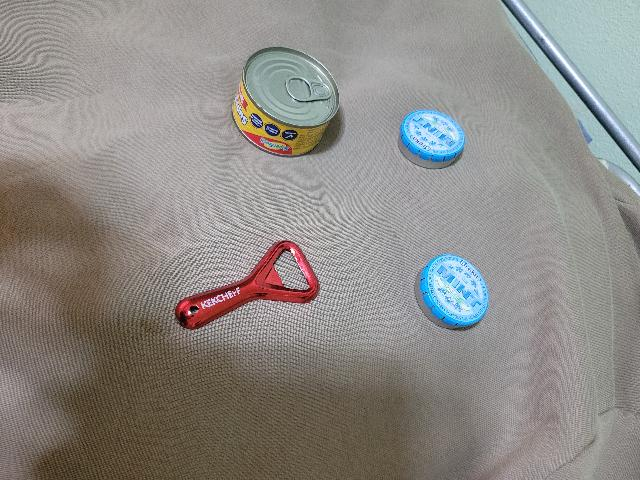Metal: (173, 238, 325, 330), (229, 44, 344, 159), (413, 252, 492, 334), (396, 106, 471, 169)
